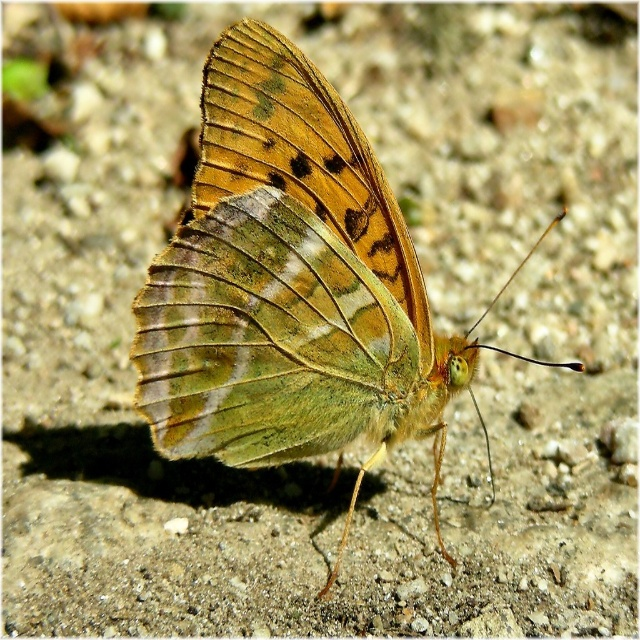Butterfly: (134, 0, 574, 640)
